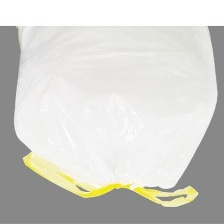plastic_bag: (6, 25, 223, 217)
